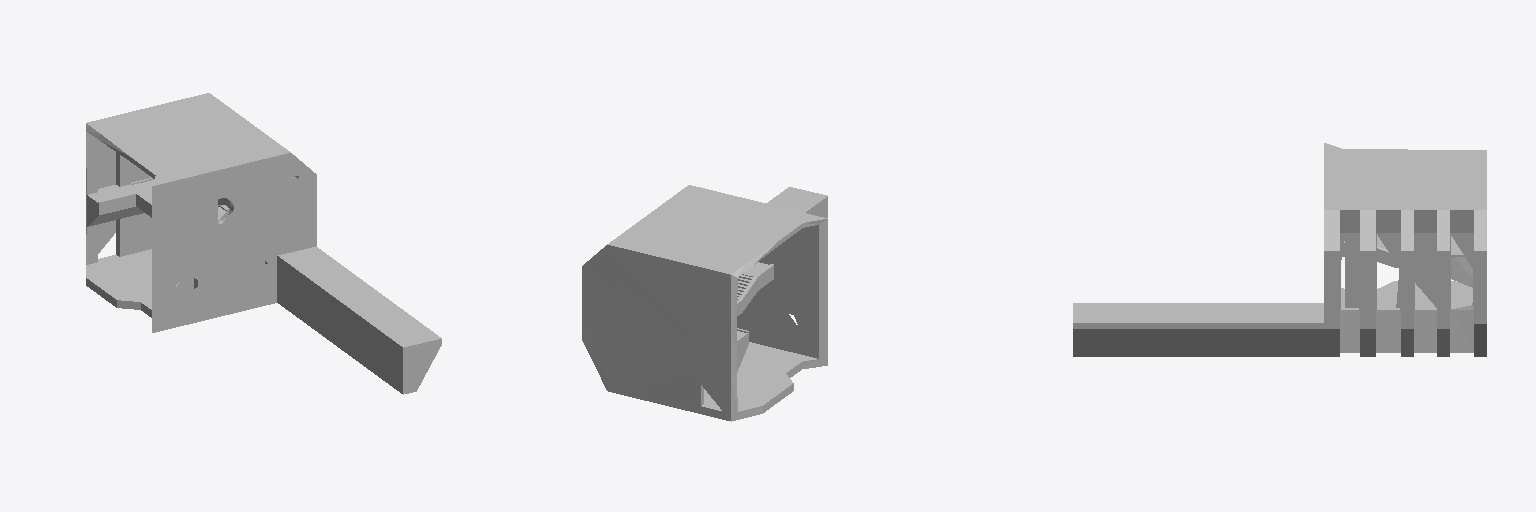
Rendered from common_room.obj.
3 renders of one model, left to right at view 1: azimuth 30°, elevation 25°; view 2: azimuth 150°, elevation 25°; view 3: azimuth 270°, elevation 25°, orthographic.
Parts seen in each view (by area): view 1: pCube95; view 2: pCube95; view 3: pCube95.
Part boxes in pixels (left/top/right/bottom): pCube95: left=86, top=93, right=441, bottom=394; pCube95: left=582, top=185, right=827, bottom=421; pCube95: left=1073, top=143, right=1486, bottom=356.
Bounding box in the file's own units: 185 × 157 × 402.